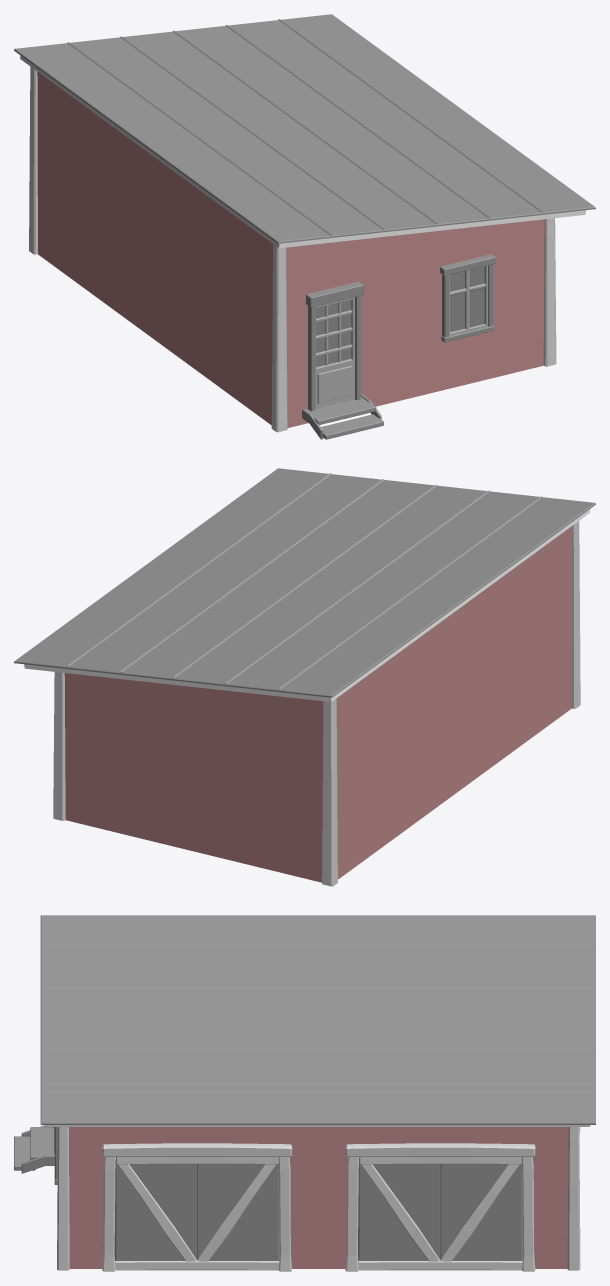
Rendered from fp_storage_l3.glb.
3 renders of one model, top to bottom at view 1: azimuth 30°, elevation 25°; view 2: azimuth 150°, elevation 25°; view 3: azimuth 270°, elevation 25°, orthographic. The views are drawn at different scales.
Bounding box in the file's own units: 1.26 × 0.7572 × 1.9.
